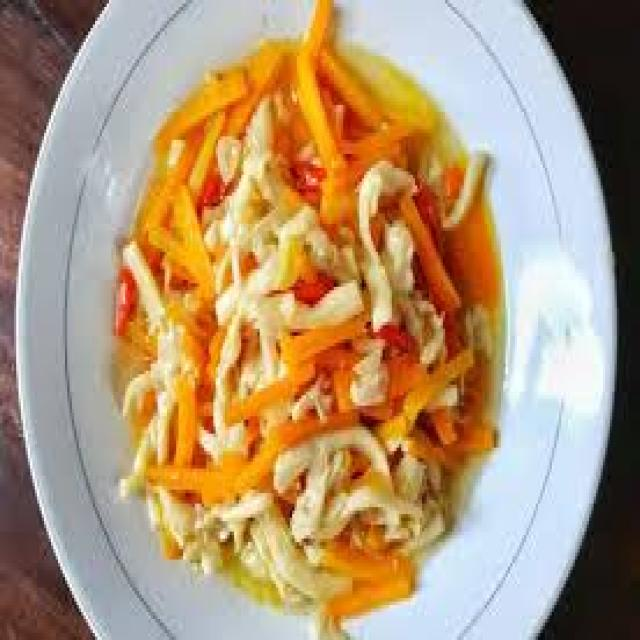wortel: (125, 40, 501, 587)
